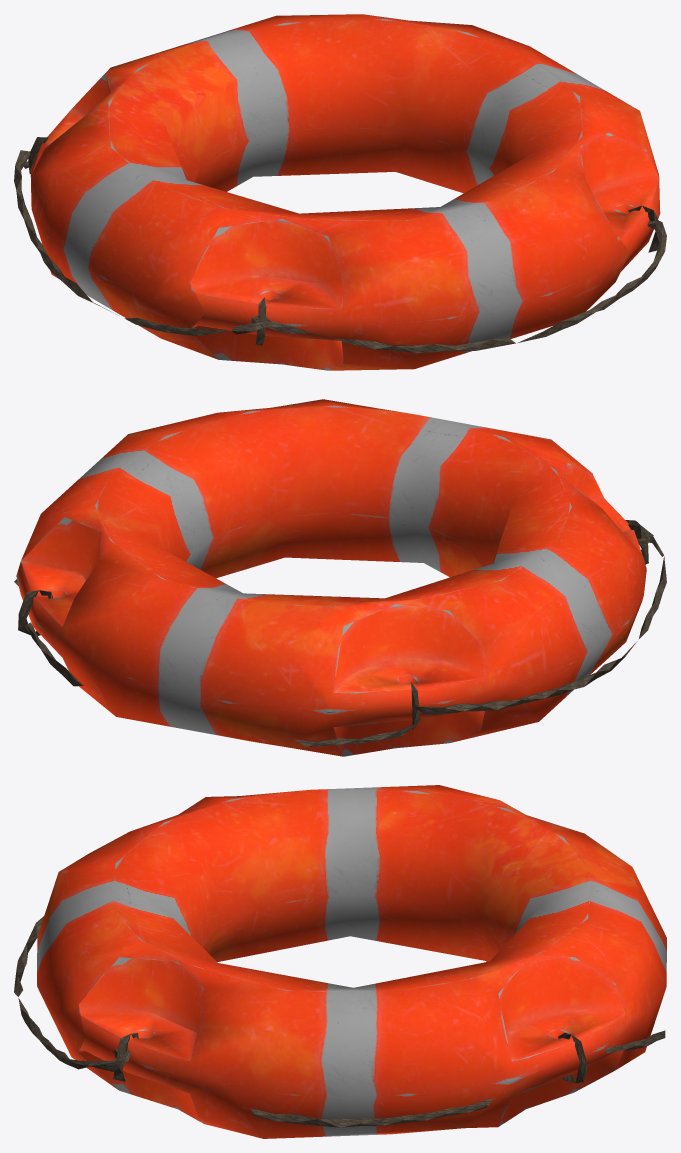
File: lifebuoymodel.gltf
3 views of the same model, one above another, from view 1: azimuth 30°, elevation 25°; view 2: azimuth 150°, elevation 25°; view 3: azimuth 270°, elevation 25° (orthographic). The views are drawn at different scales.
Visible parts, largest first — view 1: lifebuoy; view 2: lifebuoy; view 3: lifebuoy.
Part boxes in pixels (bbox=[...]): lifebuoy: bbox=[14, 14, 666, 370]; lifebuoy: bbox=[14, 399, 666, 756]; lifebuoy: bbox=[14, 785, 666, 1138].
Bounding box in the file's own units: 0.9066 × 0.2302 × 0.9181.
Materials: 2 (2 with a texture image).
